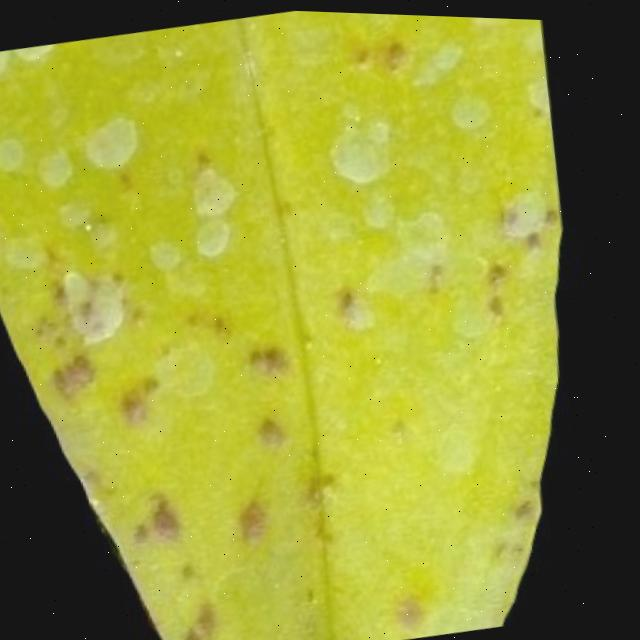mite: (59, 259, 134, 346), (324, 108, 399, 186), (80, 110, 143, 174), (444, 84, 495, 132), (0, 42, 66, 78), (153, 493, 189, 540), (381, 33, 408, 64), (515, 490, 543, 518)
spots: (0, 8, 611, 640)
